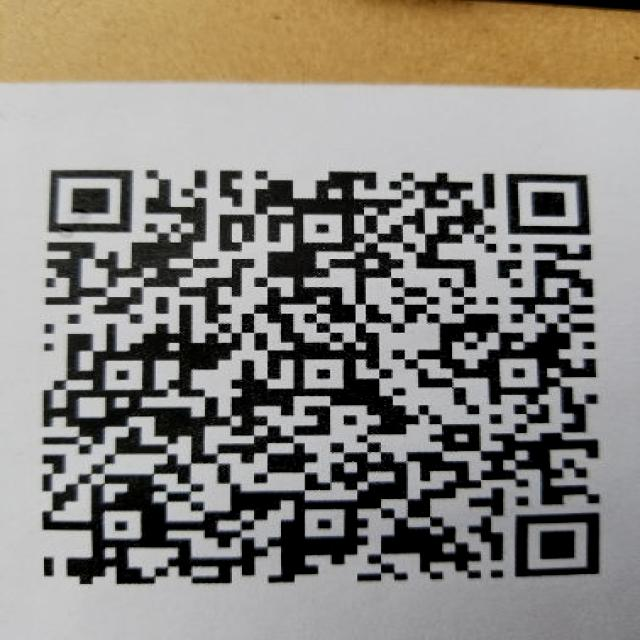QRCode: (13, 150, 621, 595)
